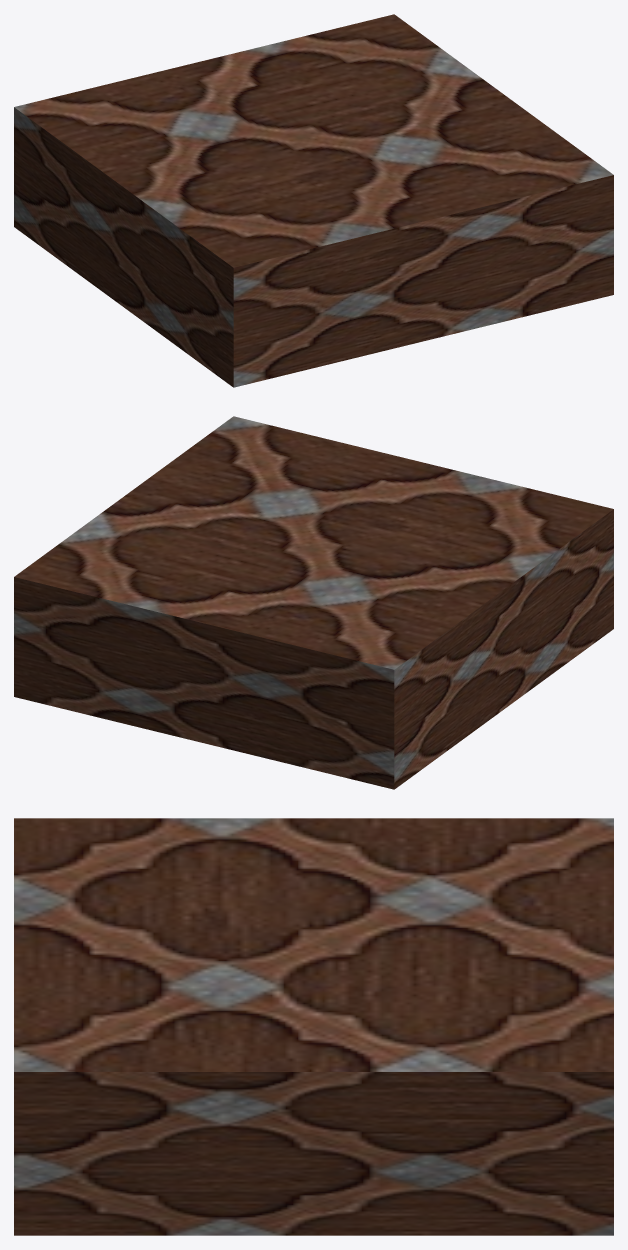
File: ceiling_tile.glb
The picture shows the model from 3 angles, top to bottom: view 1: azimuth 30°, elevation 25°; view 2: azimuth 150°, elevation 25°; view 3: azimuth 270°, elevation 25°; orthographic projection. The views are drawn at different scales.
Parts seen in each view (by area): view 1: Cube; view 2: Cube; view 3: Cube.
Boxes of the visible parts, x1=… form: Cube: x1=14, y1=14, x2=613, y2=387; Cube: x1=14, y1=416, x2=613, y2=789; Cube: x1=14, y1=818, x2=613, y2=1235.
Bounding box in the file's own units: 6 × 2.03 × 6.
Materials: 2 (1 with a texture image).
